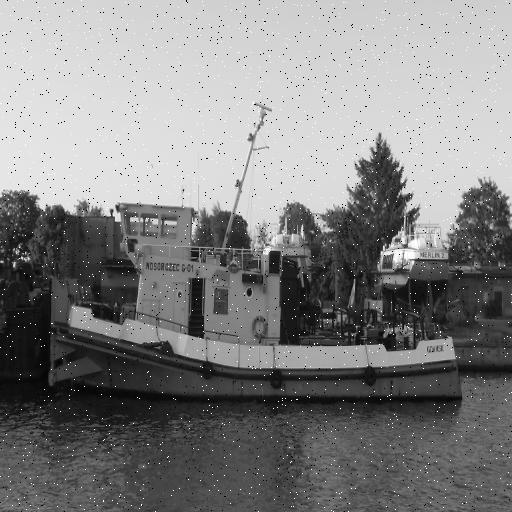tugboat: (46, 194, 466, 426)
